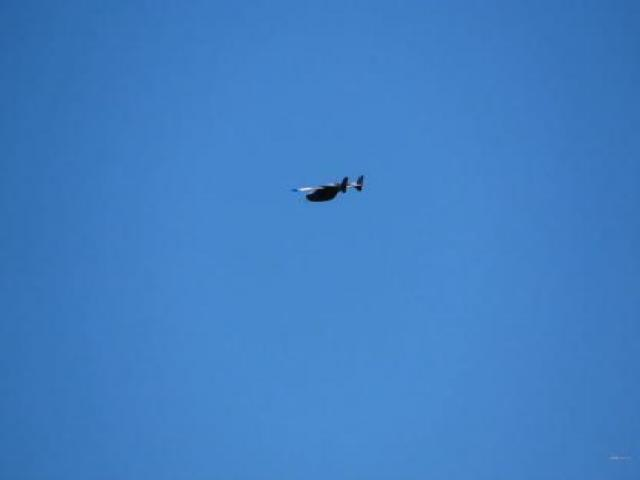uav: (289, 162, 368, 215)
